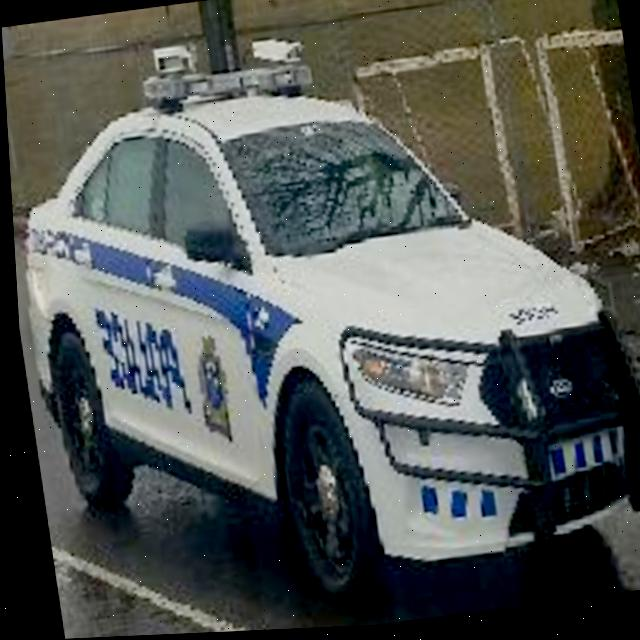emergency: (3, 38, 640, 591)
